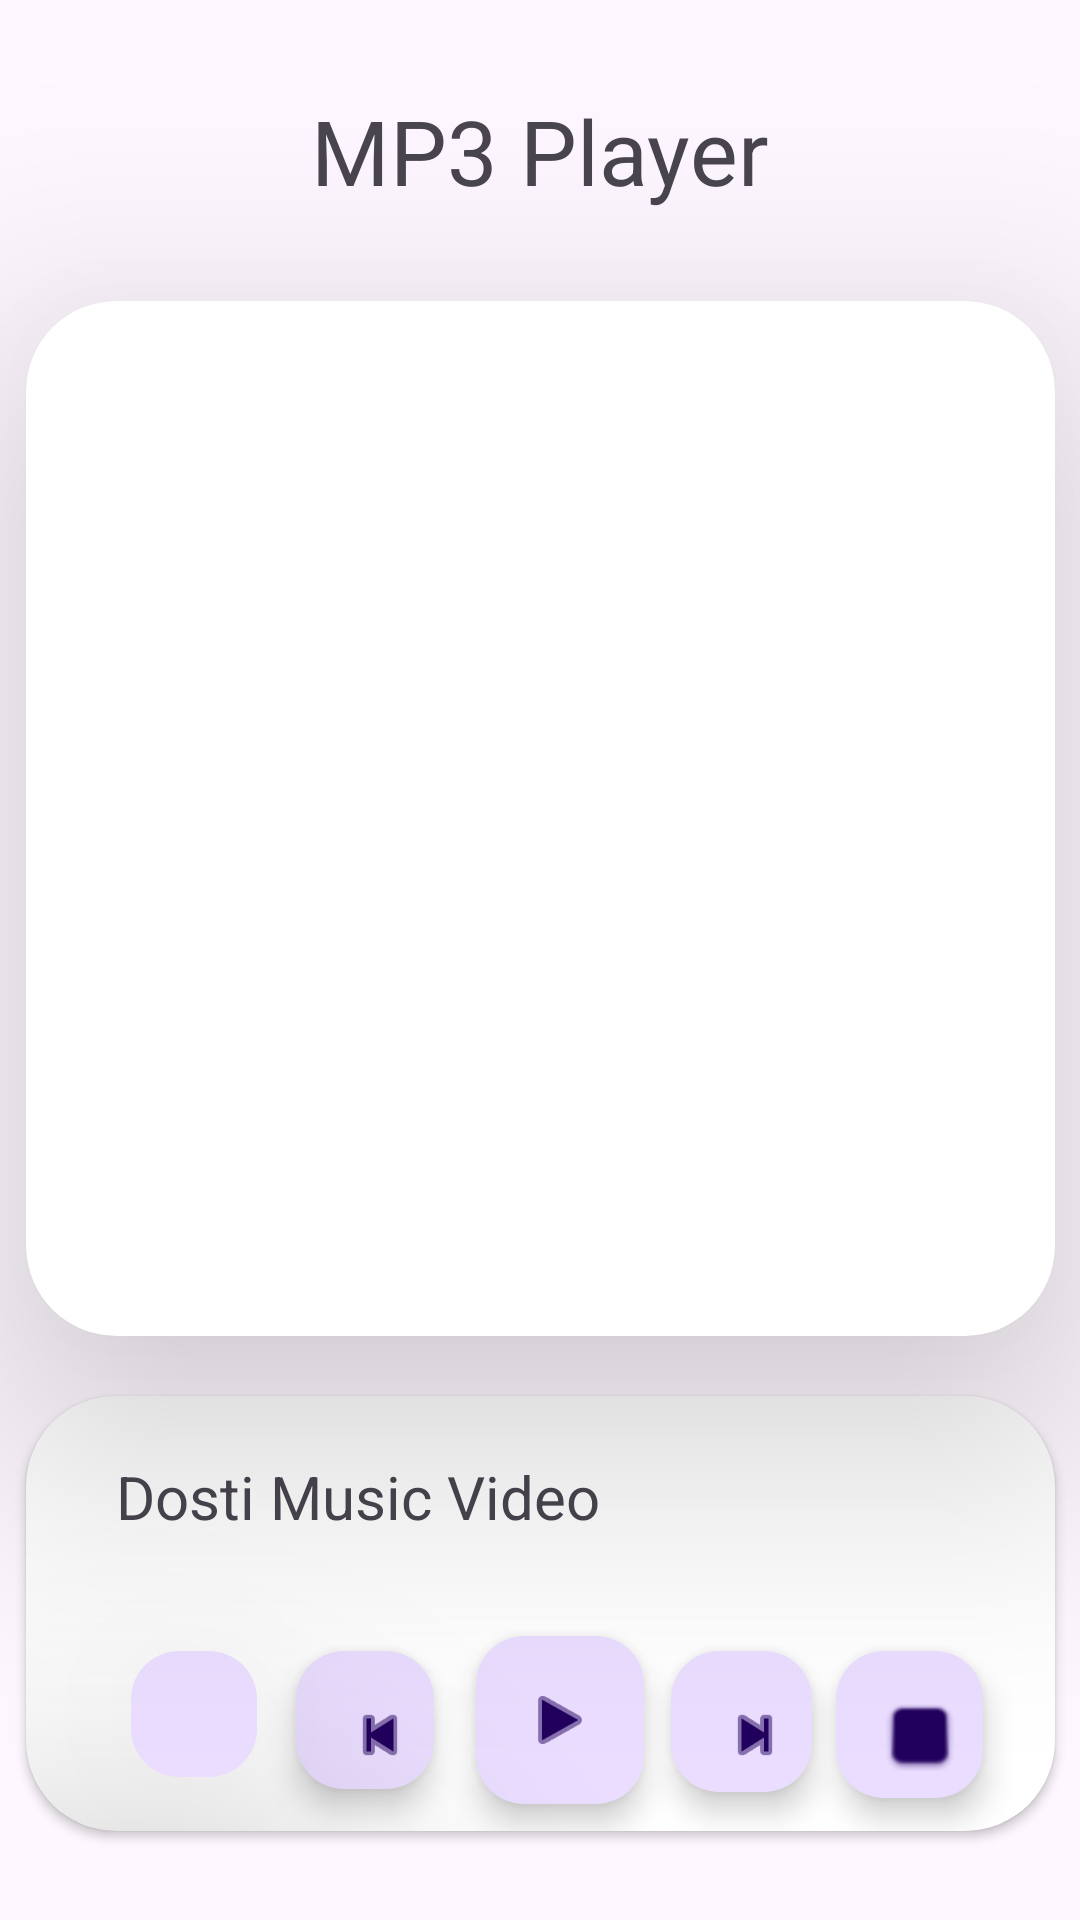

Icons on this 1080w x 1920h Android screen, each with its box as bbox=[x1, y1, x2, y2]:
next: bbox=[671, 1651, 812, 1792]
play: bbox=[476, 1636, 644, 1804]
previous: bbox=[296, 1651, 434, 1789]
